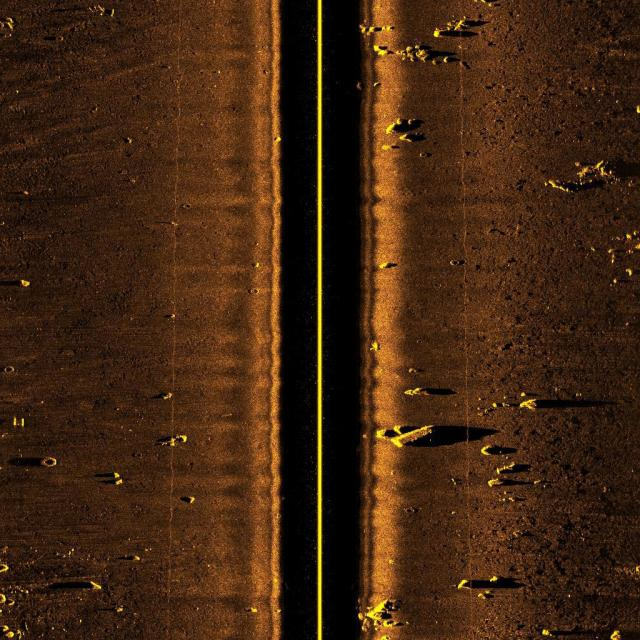mine: (458, 569, 508, 597)
other: (364, 418, 502, 461), (359, 592, 408, 636), (9, 451, 59, 474), (45, 578, 106, 592)
